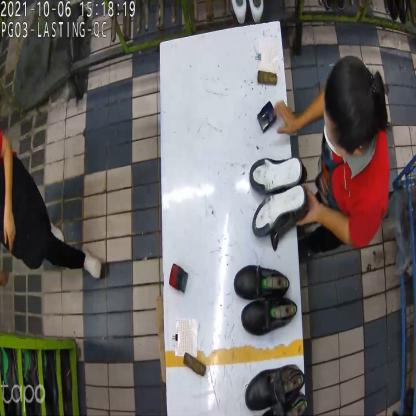shoes: (231, 261, 298, 338), (244, 361, 308, 416), (162, 251, 195, 310)
stamp: (170, 262, 191, 296), (257, 100, 276, 134)
